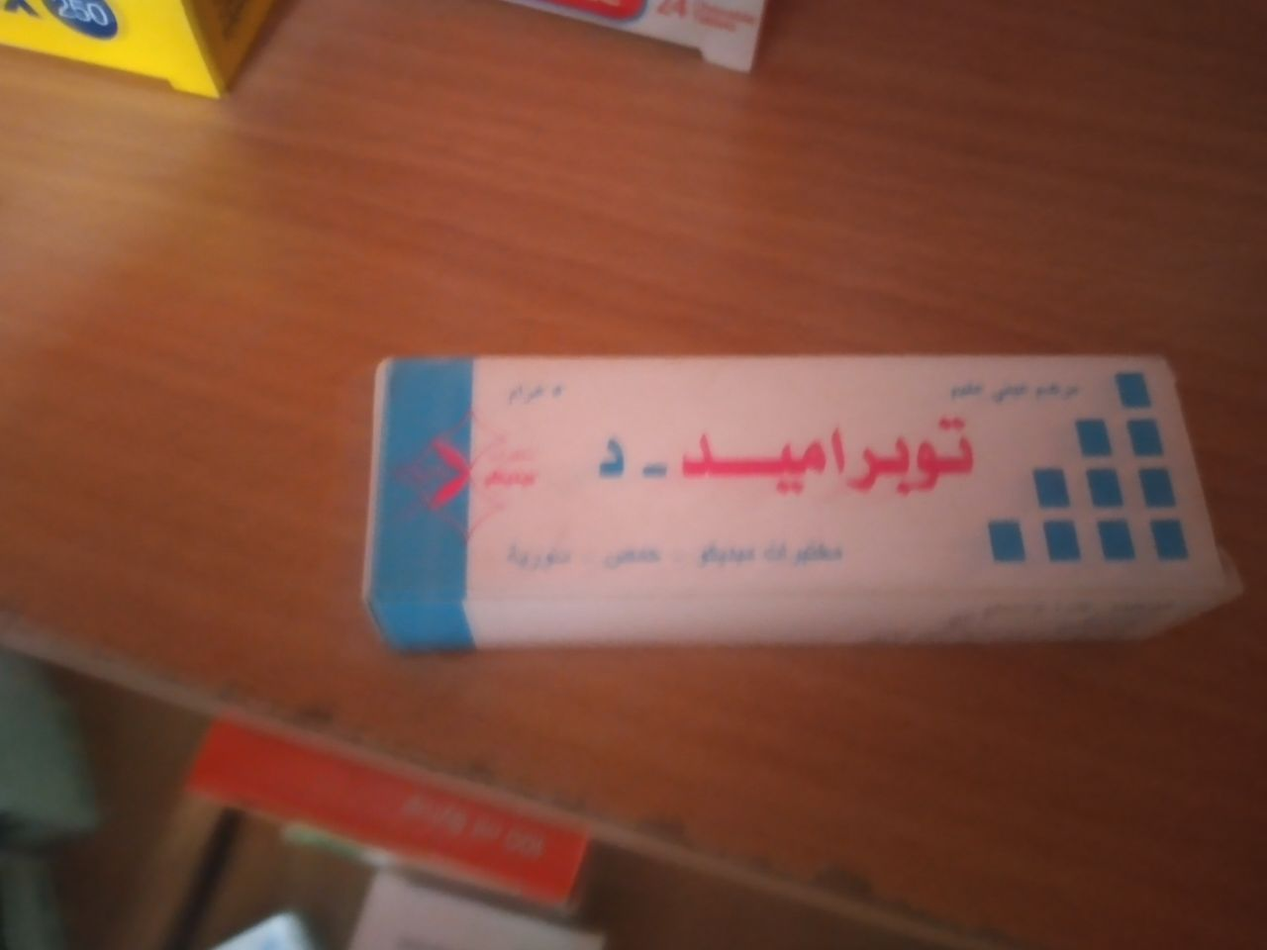Medicine: (327, 334, 1242, 670)
